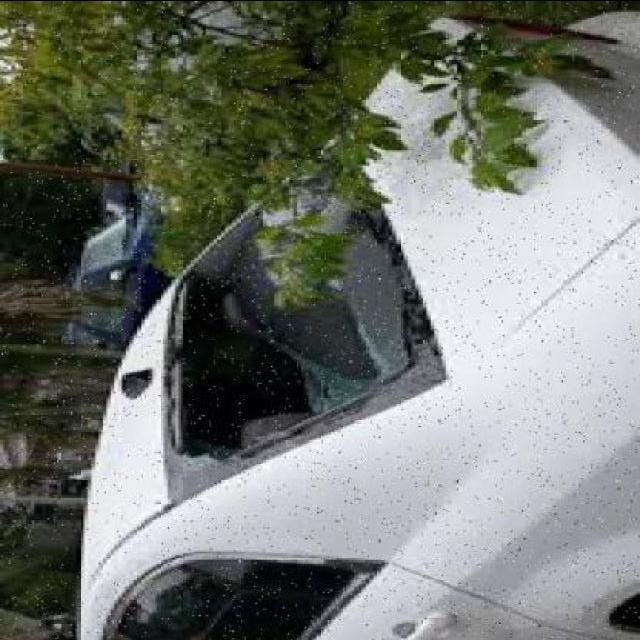Rear-windscreen-Damage: (145, 162, 469, 463)
